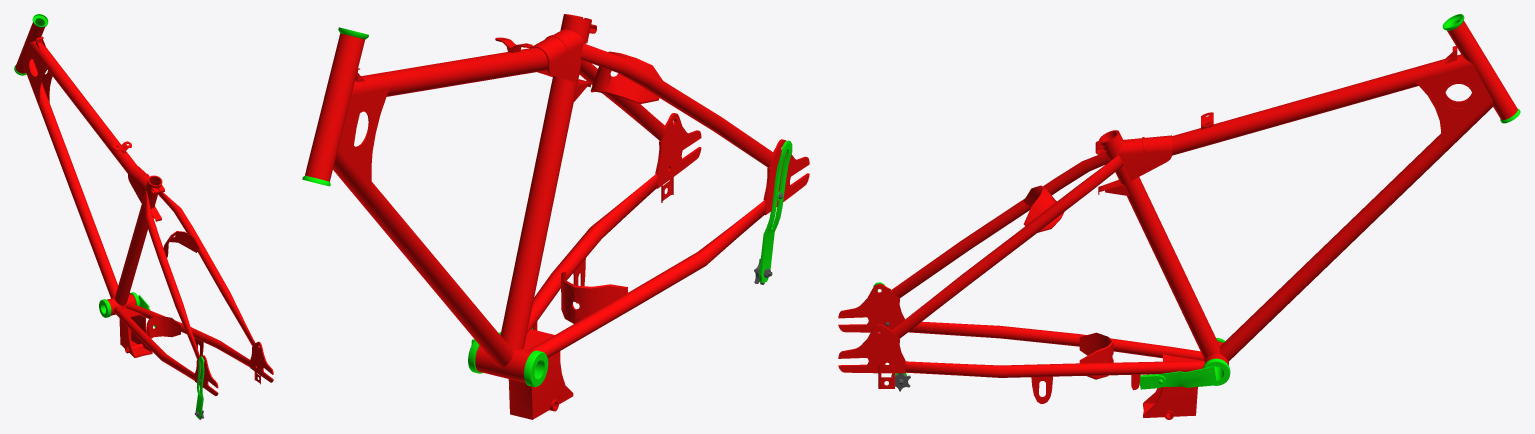
File: Frame.fbx
The picture shows the model from 3 angles, left to right: view 1: azimuth 30°, elevation 25°; view 2: azimuth 150°, elevation 25°; view 3: azimuth 270°, elevation 25°; orthographic projection. The views are drawn at different scales.
Parts seen in each view (by area): view 1: Frame; view 2: Frame; view 3: Frame.
Part boxes in pixels (box(x1,y1,x2,y2)): Frame: box(14, 14, 273, 419); Frame: box(302, 14, 809, 419); Frame: box(838, 14, 1520, 419).
Bounding box in the file's own units: 165 × 681 × 1059.
